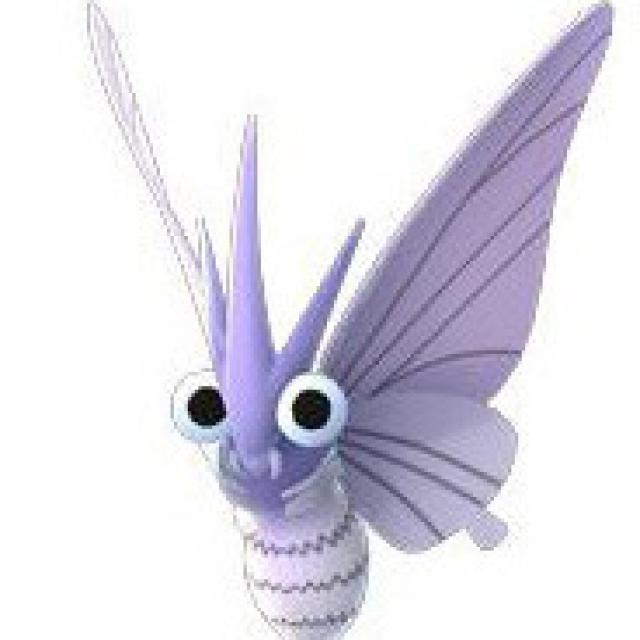Venomoth: (132, 106, 521, 640)
